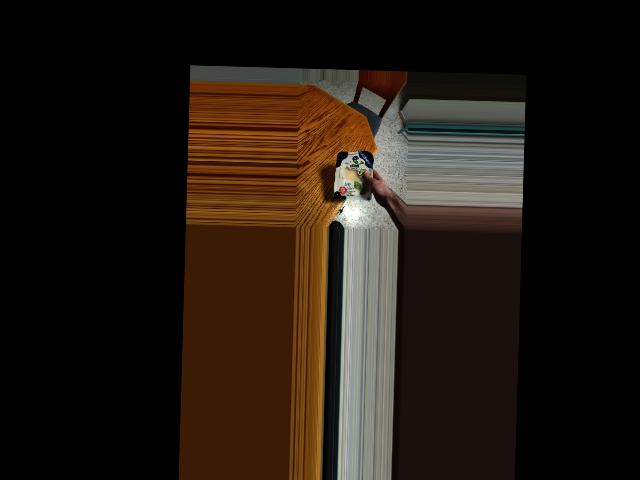cheese: (333, 139, 375, 211)
